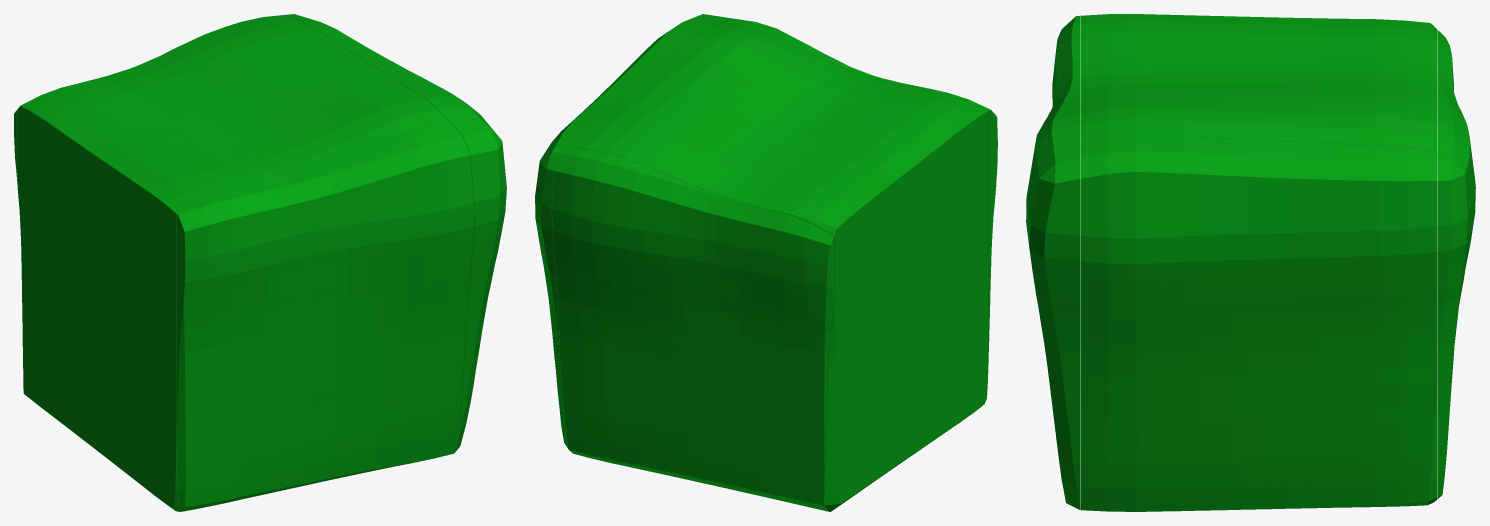
Rendered from 4by10beveledsubdivided.013.fbx.
The picture shows the model from 3 angles, left to right: view 1: azimuth 30°, elevation 25°; view 2: azimuth 150°, elevation 25°; view 3: azimuth 270°, elevation 25°; orthographic projection. The views are drawn at different scales.
Parts seen in each view (by area): view 1: 4by10beveledsubdivided.013; view 2: 4by10beveledsubdivided.013; view 3: 4by10beveledsubdivided.013.
Part boxes in pixels (<box>): 4by10beveledsubdivided.013: <box>14,14,506,511</box>; 4by10beveledsubdivided.013: <box>535,14,997,511</box>; 4by10beveledsubdivided.013: <box>1026,14,1475,511</box>.
Size of the model in its own units: 237 by 232 by 253.
